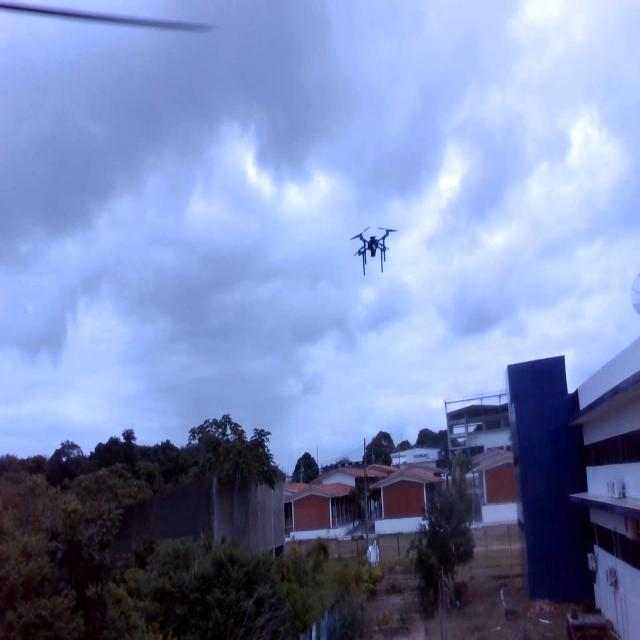-uav-: (344, 222, 409, 283)
